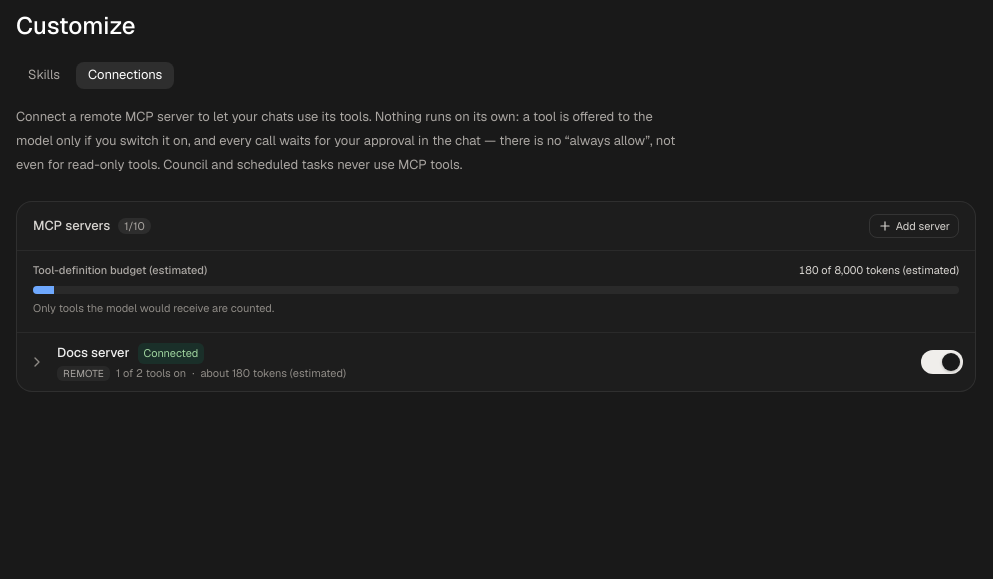
Test: the MCP servers block under reduced motion › opens a row with no chevron travel, no height spring and no colour wash
Click the button with aria-label "Docs server, Connected". click: (93, 353)
box: left=29, top=343, right=913, bottom=381
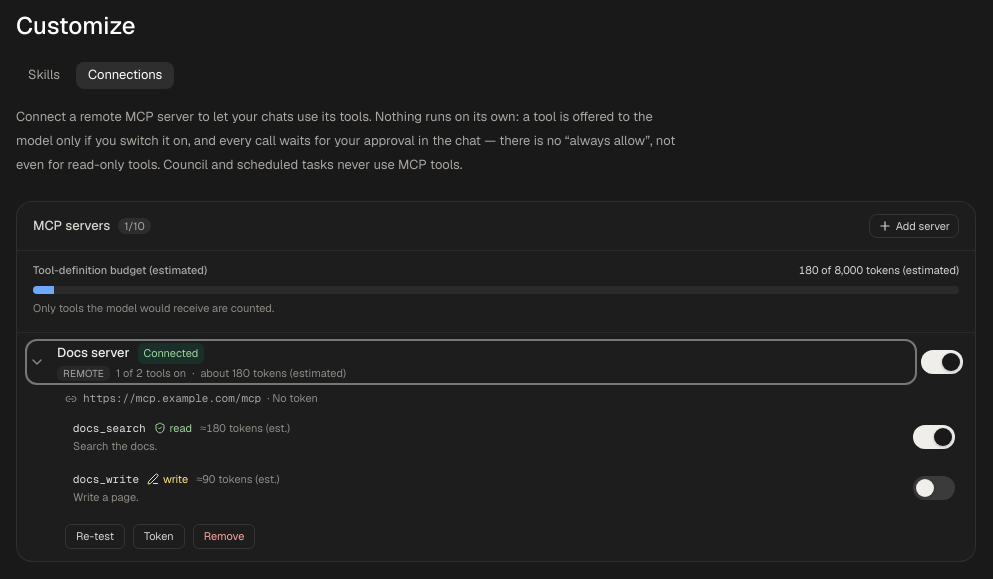
expect the element named "Docs server details" is shown: met, box left=17, top=391, right=975, bottom=560
expect the button with aria-label "Docs server, Connected" is expanded: met, box left=29, top=343, right=913, bottom=381
expect the text "https://mcp.example.com/mcp" is shown: met, box left=83, top=391, right=261, bottom=406
